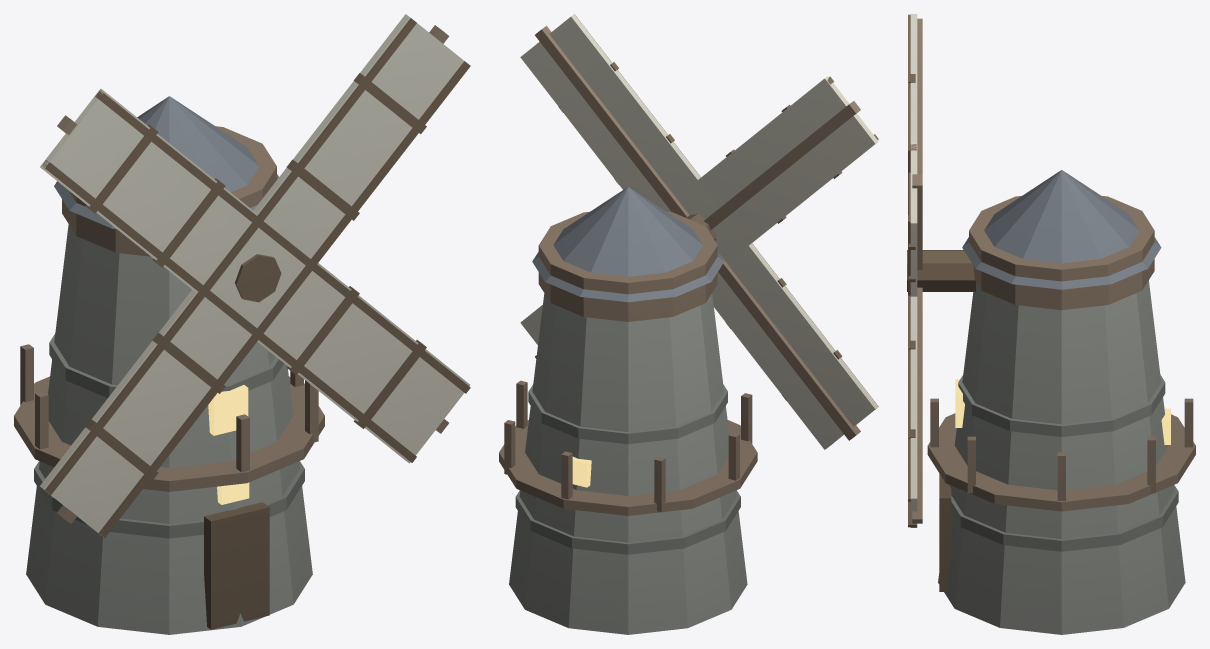
The model's file is windmill.glb.
3 views of the same model, side by side, from view 1: azimuth 30°, elevation 25°; view 2: azimuth 150°, elevation 25°; view 3: azimuth 270°, elevation 25° (orthographic). The views are drawn at different scales.
Parts seen in each view (by area): view 1: windmill; view 2: windmill; view 3: windmill.
Boxes of the visible parts, bbox=[...] form: windmill: bbox=[14, 14, 470, 634]; windmill: bbox=[499, 14, 878, 634]; windmill: bbox=[907, 14, 1195, 634].
Size of the model in its own units: 2.47 by 3.24 by 1.68.
